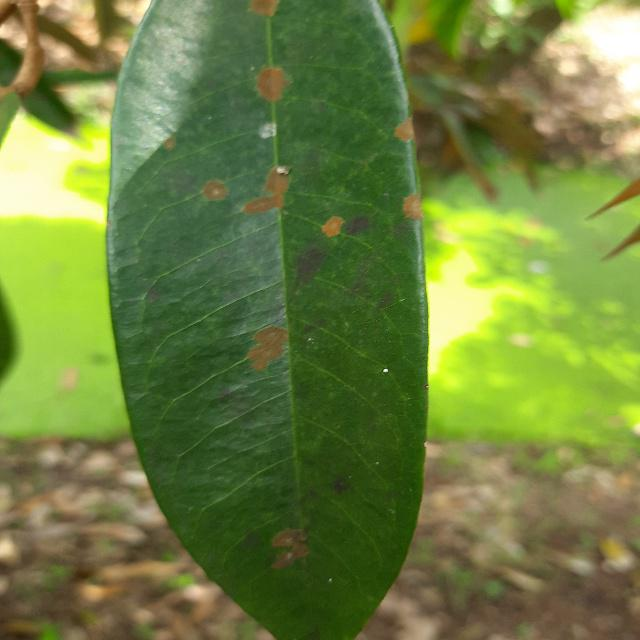Algal Leaf Spot: (95, 0, 439, 639)
